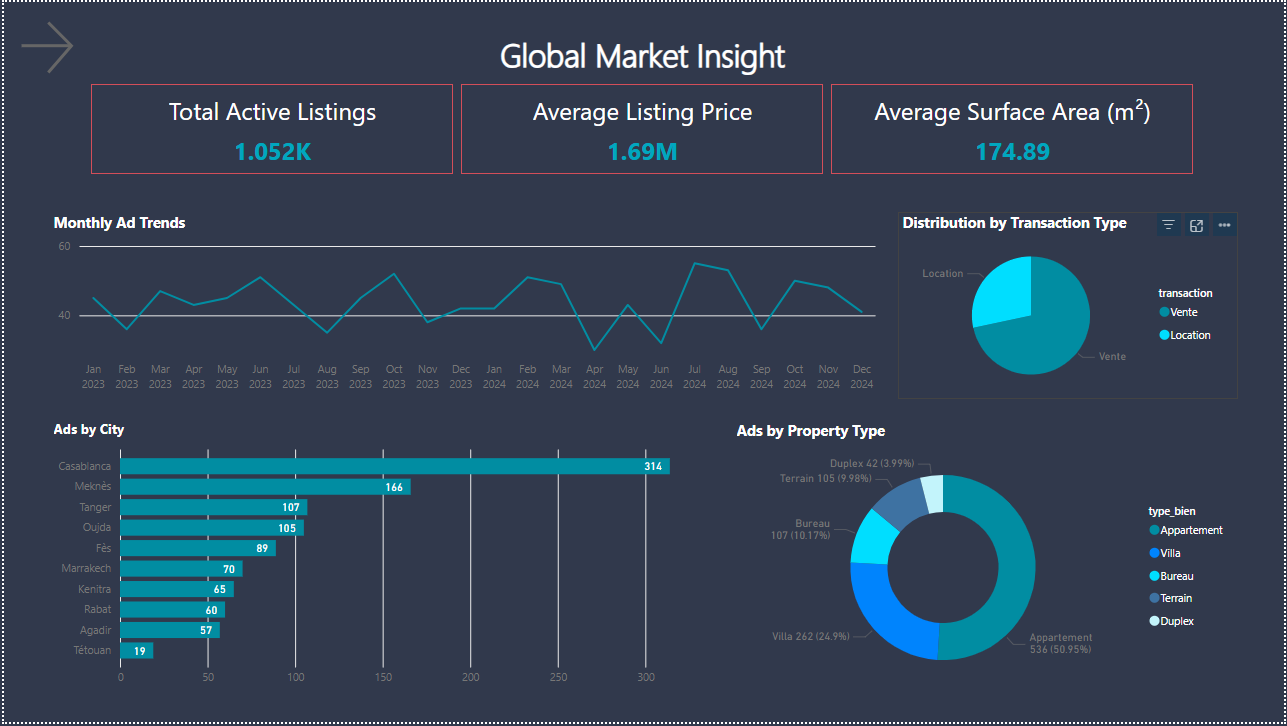

Layout of this report page (visuals, bound fields, positions):
{"tool":"powerbi","page":{"name":"Global Market Insight","canvas":[1280,720],"ordinal":0},"visuals":[{"type":"pieChart","title":"Distribution by Transaction Type","fields":{"Category":["dim_caracteristiques.transaction"],"Y":["_Measures.Total Ads"]},"box":[894.4,210.2,339.6,186.6],"z":1000},{"type":"donutChart","title":"Ads by Property Type","fields":{"Category":["dim_caracteristiques.type_bien"],"Y":["_Measures.Total Ads"]},"box":[727.7,418,506.3,274.9],"z":2000},{"type":"clusteredBarChart","title":"Ads by City","fields":{"Y":["_Measures.Total Ads"],"Category":["dim_localisation.ville","dim_localisation.quartier"]},"box":[44.8,418,661.8,274.9],"z":3000},{"type":"lineChart","title":"Monthly Ad Trends","fields":{"Y":["_Measures.Total Ads"],"Category":["dim_temps.Month_Year"]},"box":[44.8,210.2,833.5,186.6],"z":4000},{"type":"cardVisual","fields":{"Data":["_Measures.Total Ads","_Measures.Average Price","_Measures.Average Surface"]},"box":[82.1,77.1,1113.3,99.5],"z":5000},{"type":"textbox","box":[477.7,24.9,322.2,69.7],"z":5500},{"type":"actionButton","title":"1 Show Button","box":[9.9,12.7,70.6,65],"z":6000}]}

Visuals, with their boxes in screenshot pixels (x1, y1, x2, y2), scaled from the page's 1280x720 canvas onto the 1287x726 screenshot:
"Distribution by Transaction Type" pieChart: box=[899, 212, 1241, 400]
"Ads by Property Type" donutChart: box=[732, 421, 1241, 699]
"Ads by City" clusteredBarChart: box=[45, 421, 710, 699]
"Monthly Ad Trends" lineChart: box=[45, 212, 883, 400]
cardVisual - _Measures.Total Ads x _Measures.Average Price: box=[83, 78, 1202, 178]
textbox: box=[480, 25, 804, 95]
"1 Show Button" actionButton: box=[10, 13, 81, 78]
